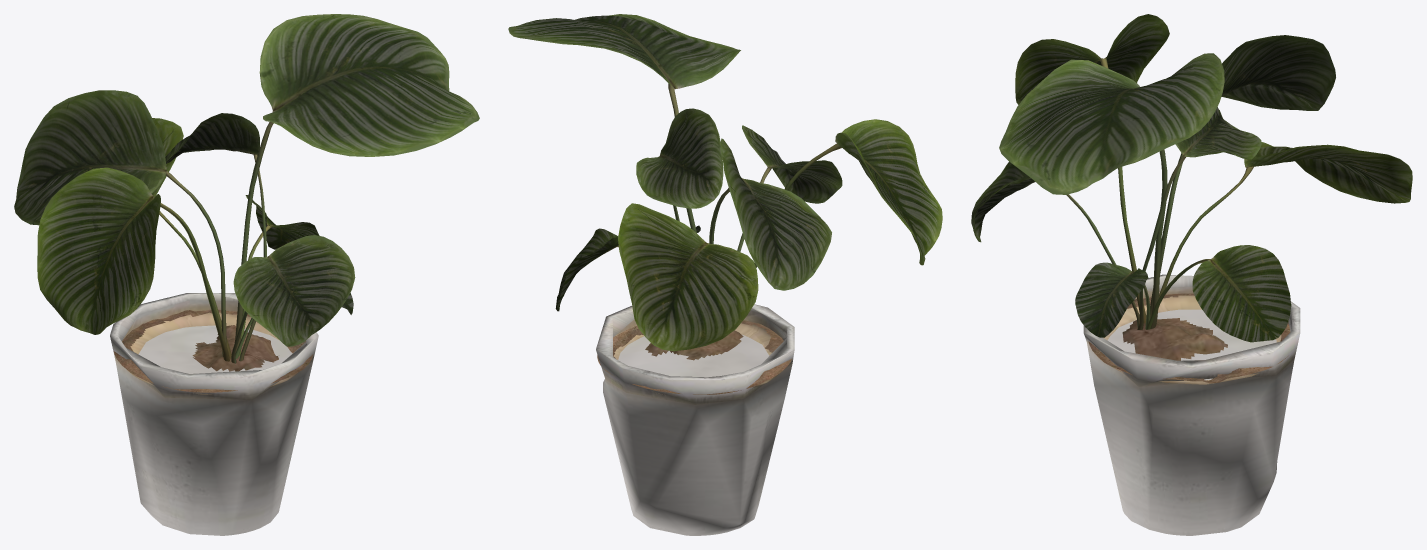
File: doniczka_kalatea_3.glb
3 renders of one model, left to right at view 1: azimuth 30°, elevation 25°; view 2: azimuth 150°, elevation 25°; view 3: azimuth 270°, elevation 25°, orthographic. The views are drawn at different scales.
Parts seen in each view (by area): view 1: roslina, doniczka, ziemia; view 2: roslina, doniczka, ziemia; view 3: roslina, doniczka, ziemia.
Boxes of the visible parts, x1,y1,x2,y2 form: roslina: [14, 14, 479, 363]; doniczka: [110, 293, 318, 535]; ziemia: [113, 309, 313, 392]; roslina: [508, 14, 942, 351]; doniczka: [596, 304, 794, 535]; ziemia: [597, 320, 791, 394]; roslina: [971, 14, 1412, 342]; doniczka: [1083, 274, 1300, 535]; ziemia: [1088, 293, 1290, 383].
Size of the model in its own units: 0.6006 by 0.6472 by 0.5256.
2 materials, 2 textured.
